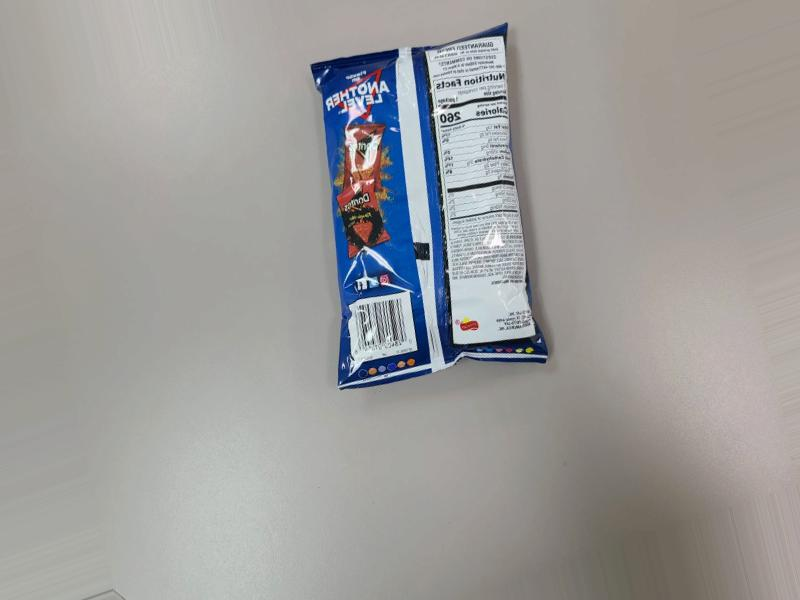doritos: (318, 24, 560, 419)
